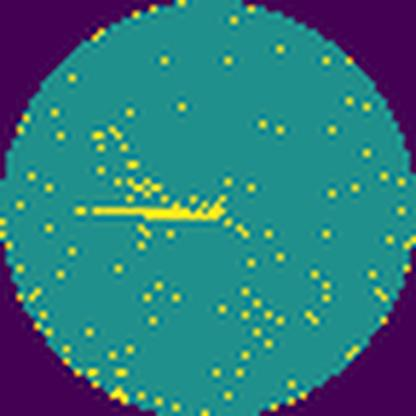Scratch: (84, 192, 232, 229)
